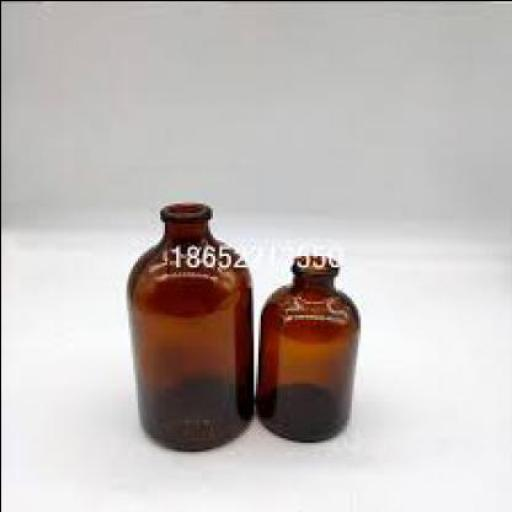glass: (122, 203, 250, 451), (253, 250, 357, 442)
